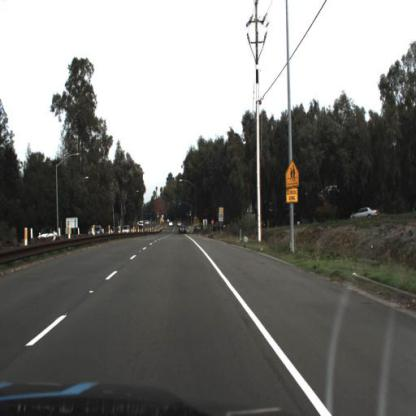car: (346, 201, 383, 224), (210, 215, 235, 238), (87, 222, 106, 241), (177, 224, 190, 238), (138, 219, 146, 232)
